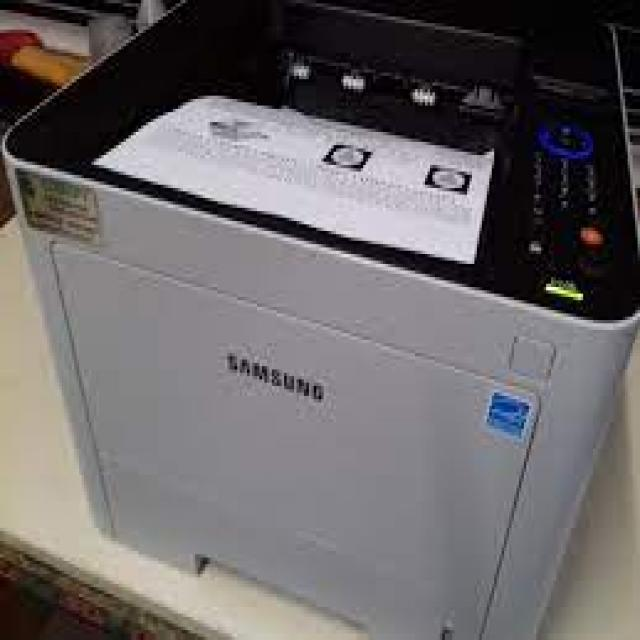printer: (3, 1, 640, 640)
